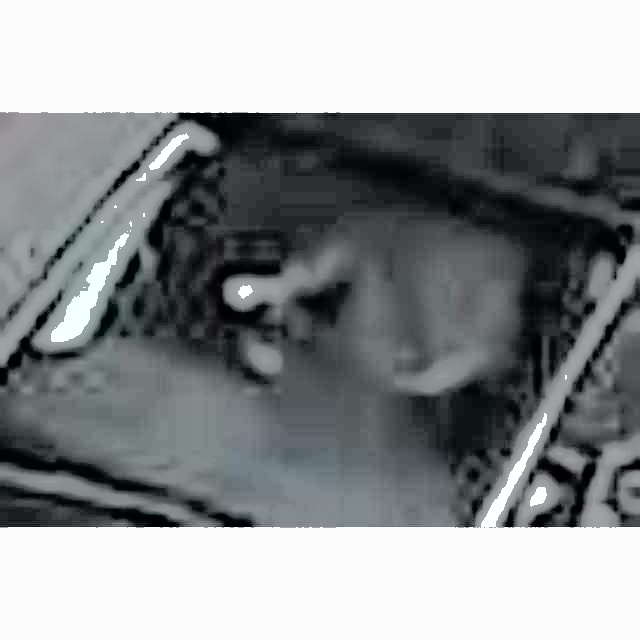pakai: (246, 162, 513, 422)
